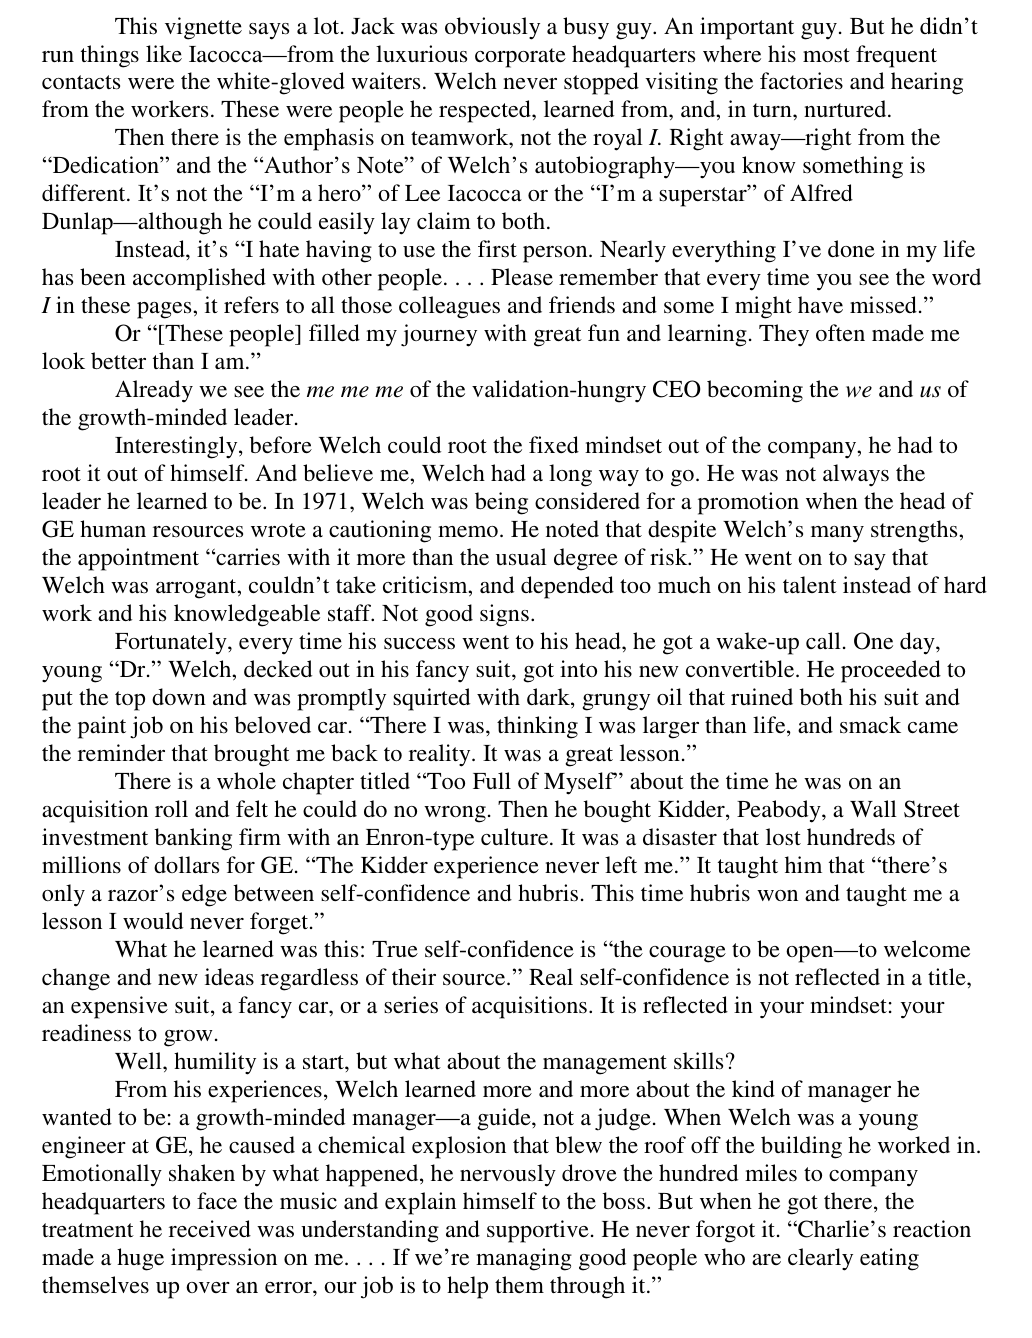latin: (38, 1052, 980, 1299), (35, 240, 983, 435), (30, 437, 988, 630), (38, 766, 960, 939), (35, 631, 967, 767), (36, 10, 979, 128), (33, 939, 973, 1052), (41, 127, 941, 233)
